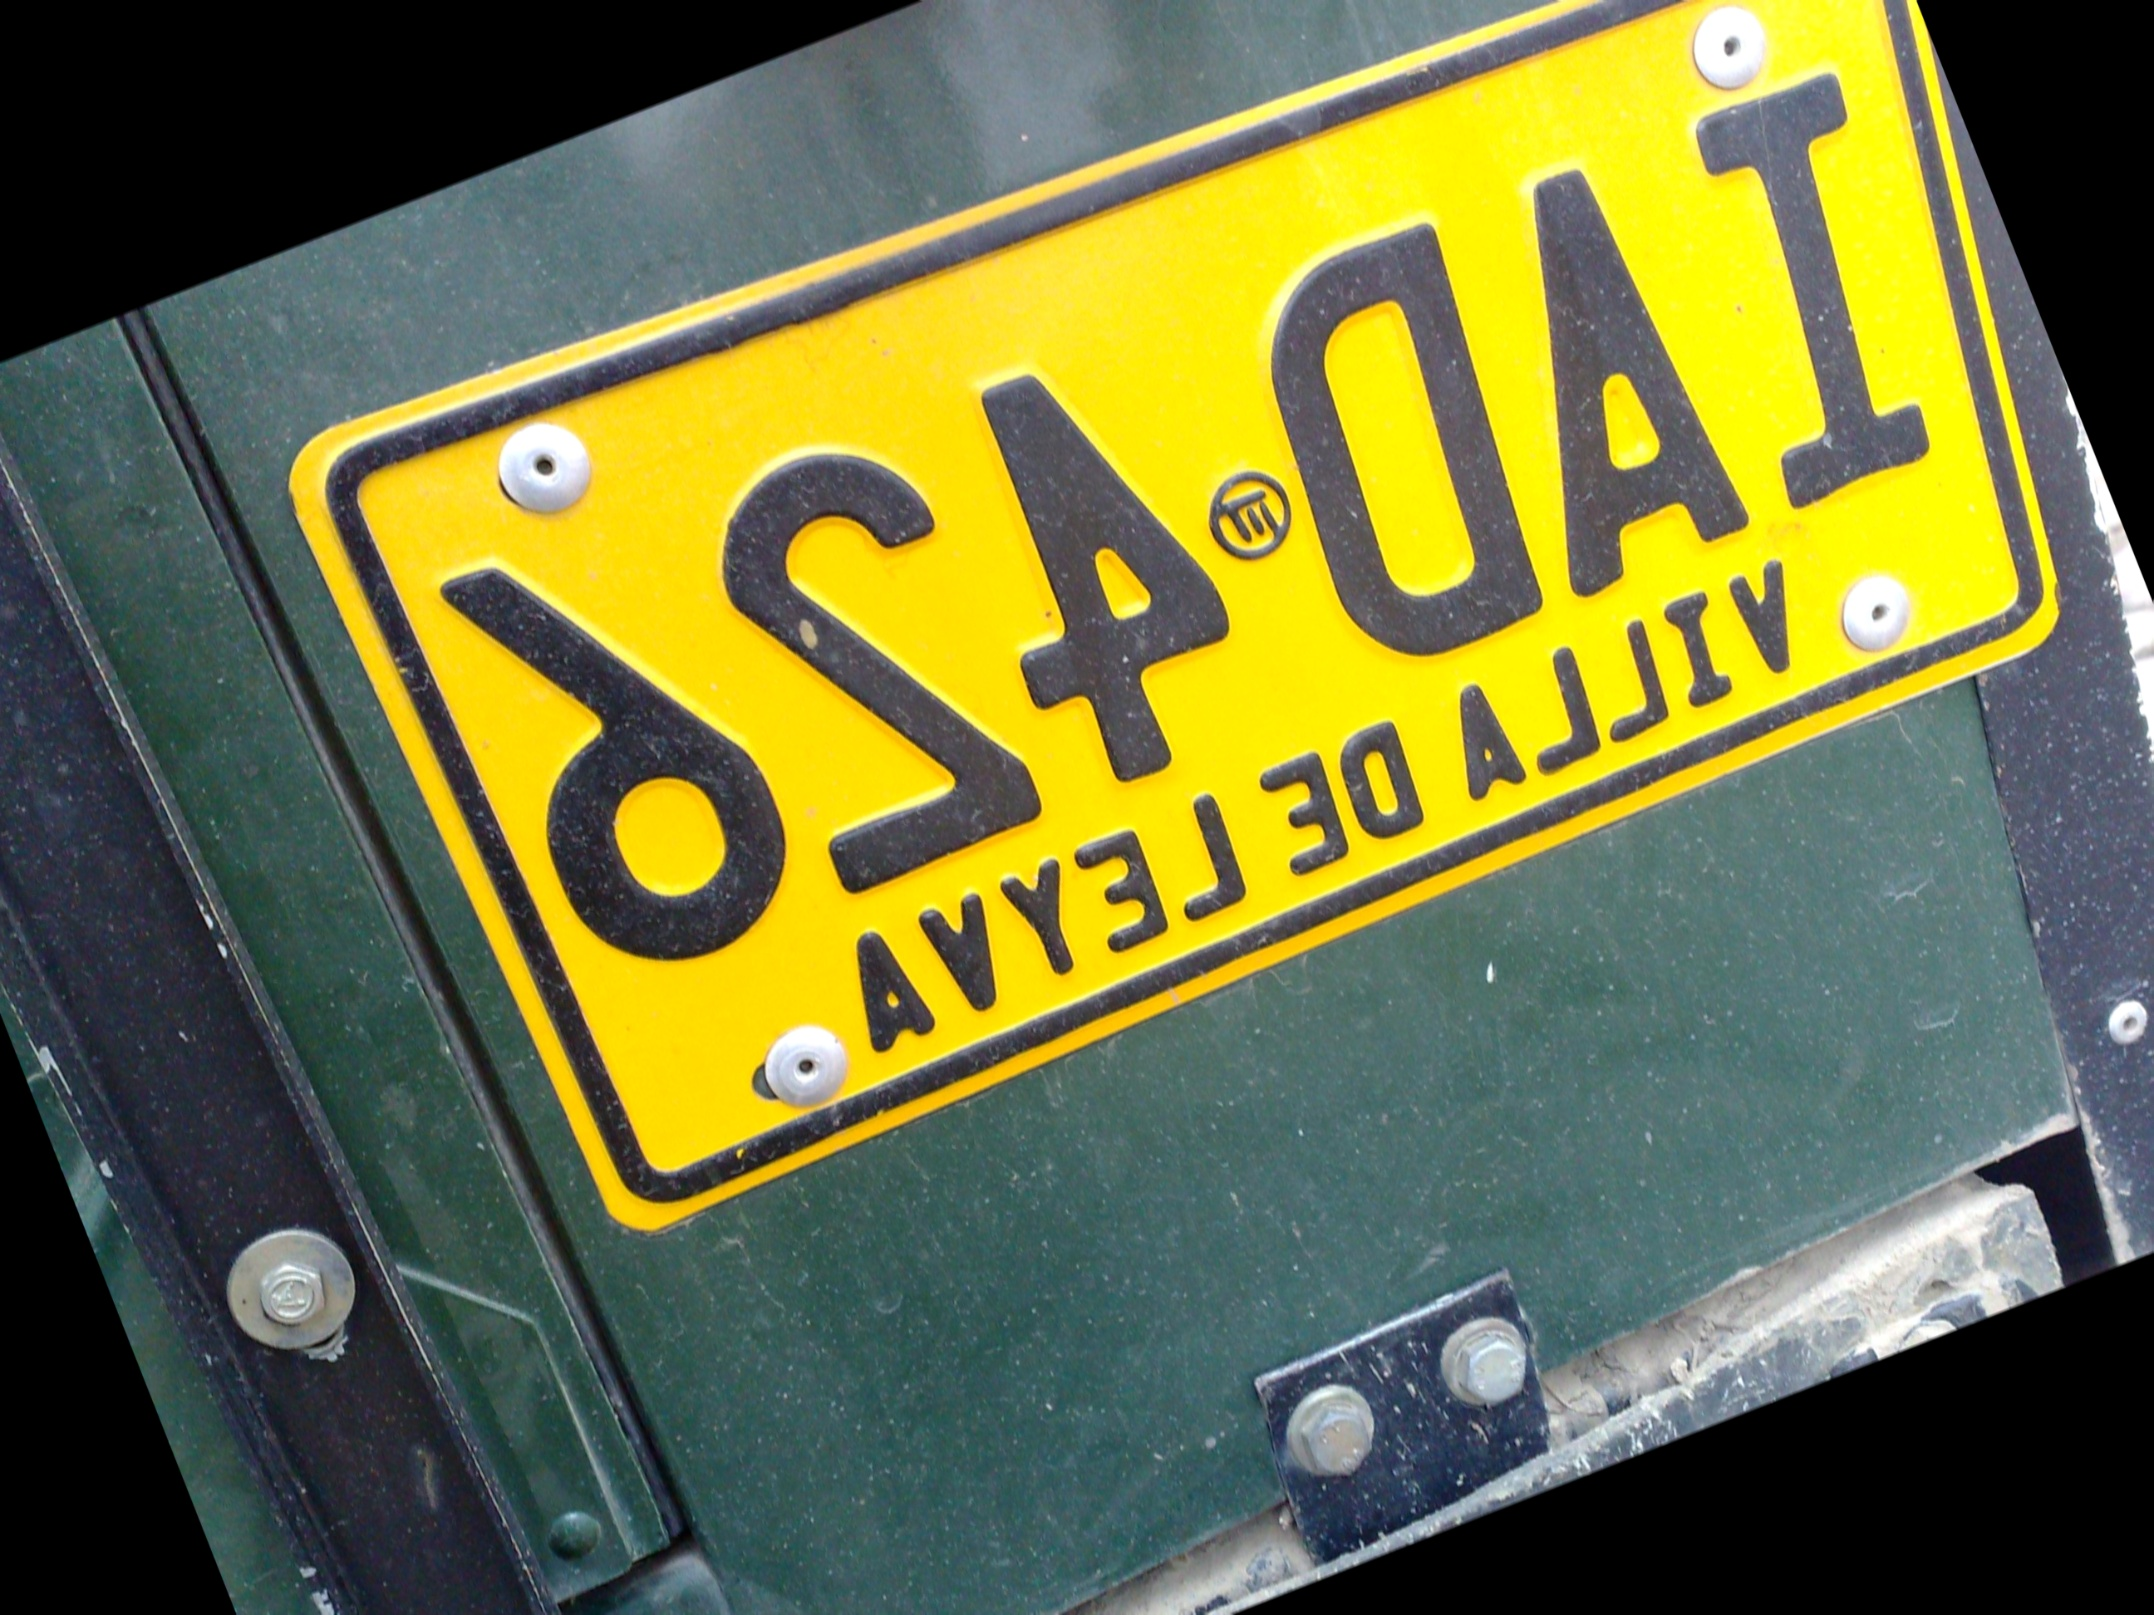placas: (287, 0, 2154, 1271)
